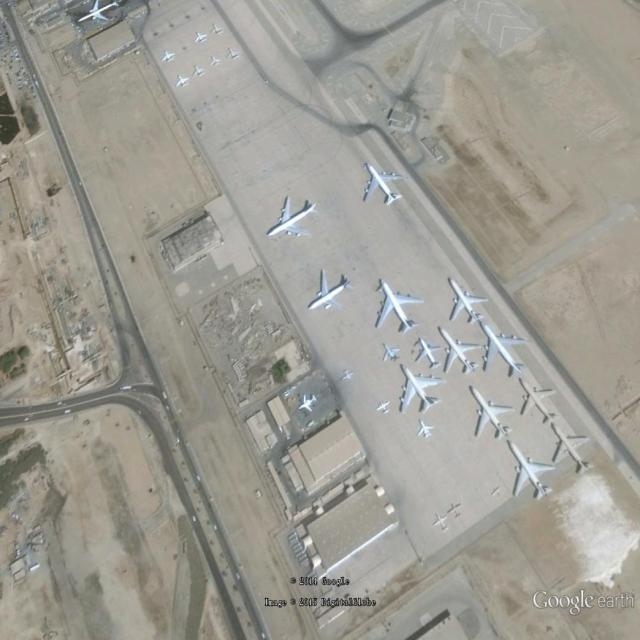aircraft: (506, 437, 560, 502), (477, 320, 534, 380), (374, 278, 427, 336), (468, 383, 519, 443), (436, 326, 489, 378), (265, 195, 324, 240), (398, 364, 449, 416), (306, 268, 359, 317), (550, 422, 596, 476), (518, 375, 564, 428), (445, 277, 492, 327), (362, 160, 409, 209), (76, 2, 125, 26), (414, 336, 446, 370), (296, 393, 320, 416), (417, 419, 436, 442), (383, 342, 402, 365), (434, 513, 453, 535), (225, 46, 243, 63), (377, 399, 394, 416), (448, 503, 464, 521), (175, 74, 192, 90), (161, 50, 178, 65), (210, 22, 227, 37), (194, 31, 210, 46), (193, 64, 207, 79), (210, 55, 224, 69), (342, 368, 354, 384), (491, 486, 502, 499)
